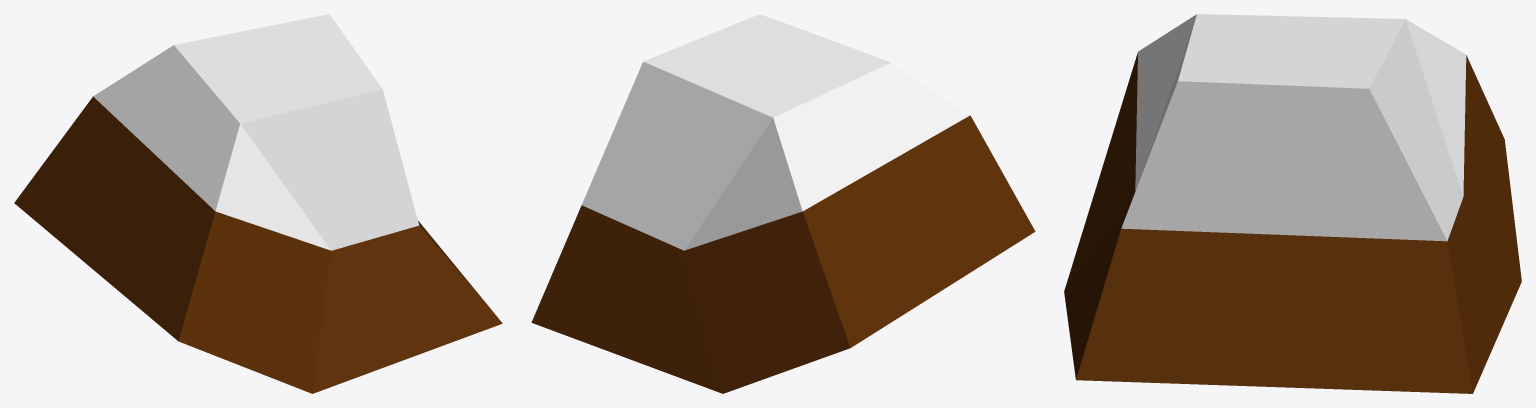
File: coconut03.obj
3 renders of one model, left to right at view 1: azimuth 30°, elevation 25°; view 2: azimuth 150°, elevation 25°; view 3: azimuth 270°, elevation 25°, orthographic. The views are drawn at different scales.
Visible parts, largest first — view 1: Cylinder; view 2: Cylinder; view 3: Cylinder.
Boxes of the visible parts, <box> form: Cylinder: <box>14,14,502,393</box>; Cylinder: <box>531,14,1035,393</box>; Cylinder: <box>1064,14,1521,393</box>.
Size of the model in its own units: 0.0214 by 0.0155 by 0.0225.
Materials: 1 (1 with a texture image).
